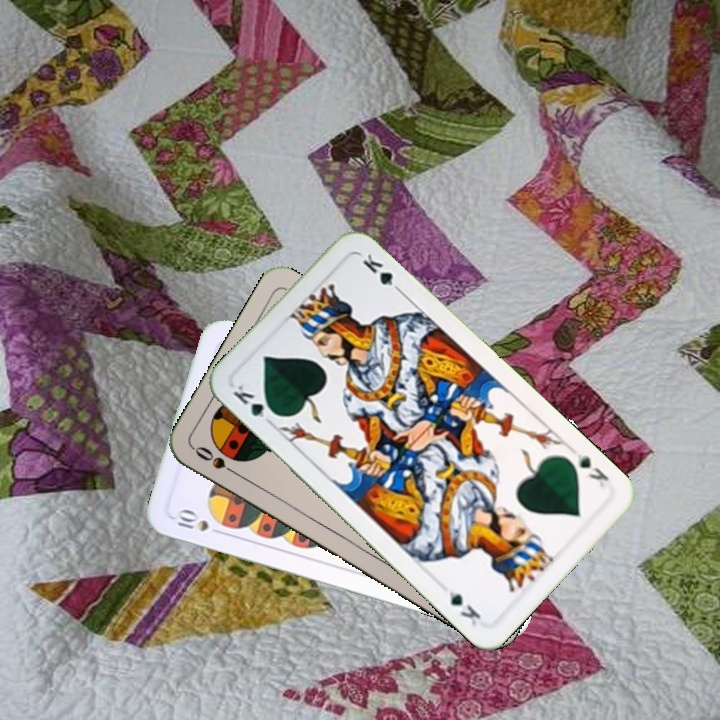GK: (228, 380, 281, 428), (572, 449, 612, 490)
S10: (173, 506, 227, 538)
SO: (191, 442, 244, 480)
